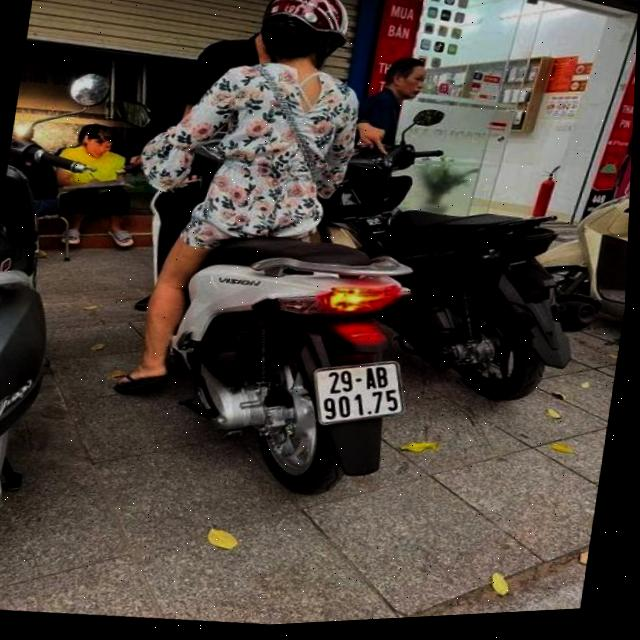motorcycle: (136, 206, 435, 514), (0, 102, 95, 585), (404, 200, 605, 417)
plate: (304, 347, 414, 436)
